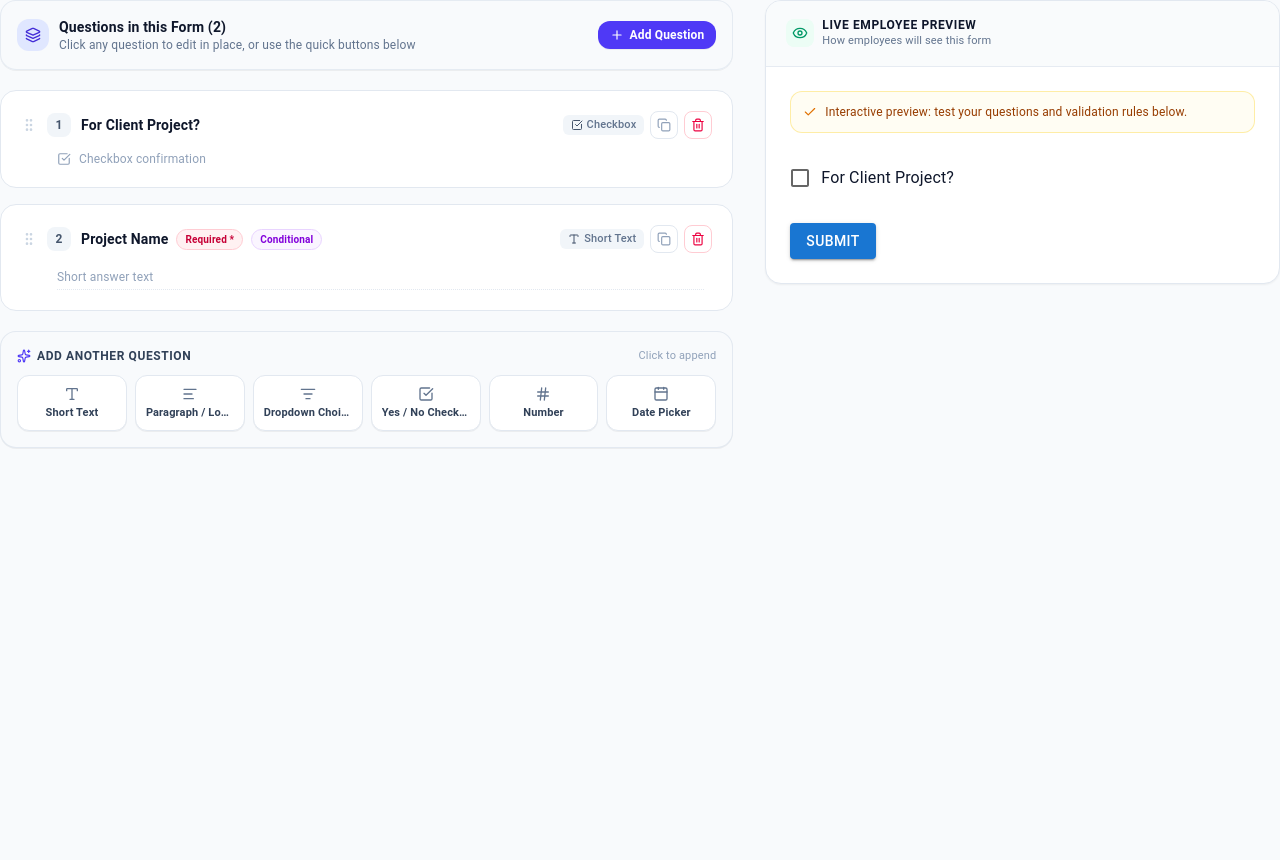
it: SchemaBuilder Component › handles conditional visibility in advanced settings with dynamic dropdowns for boolean and select dependencies
This screenshot has width=1280, height=860.
// Click on Project Name to edit it
Step 1. Click the text "Project Name" → (125, 239), box [81, 229, 168, 249]
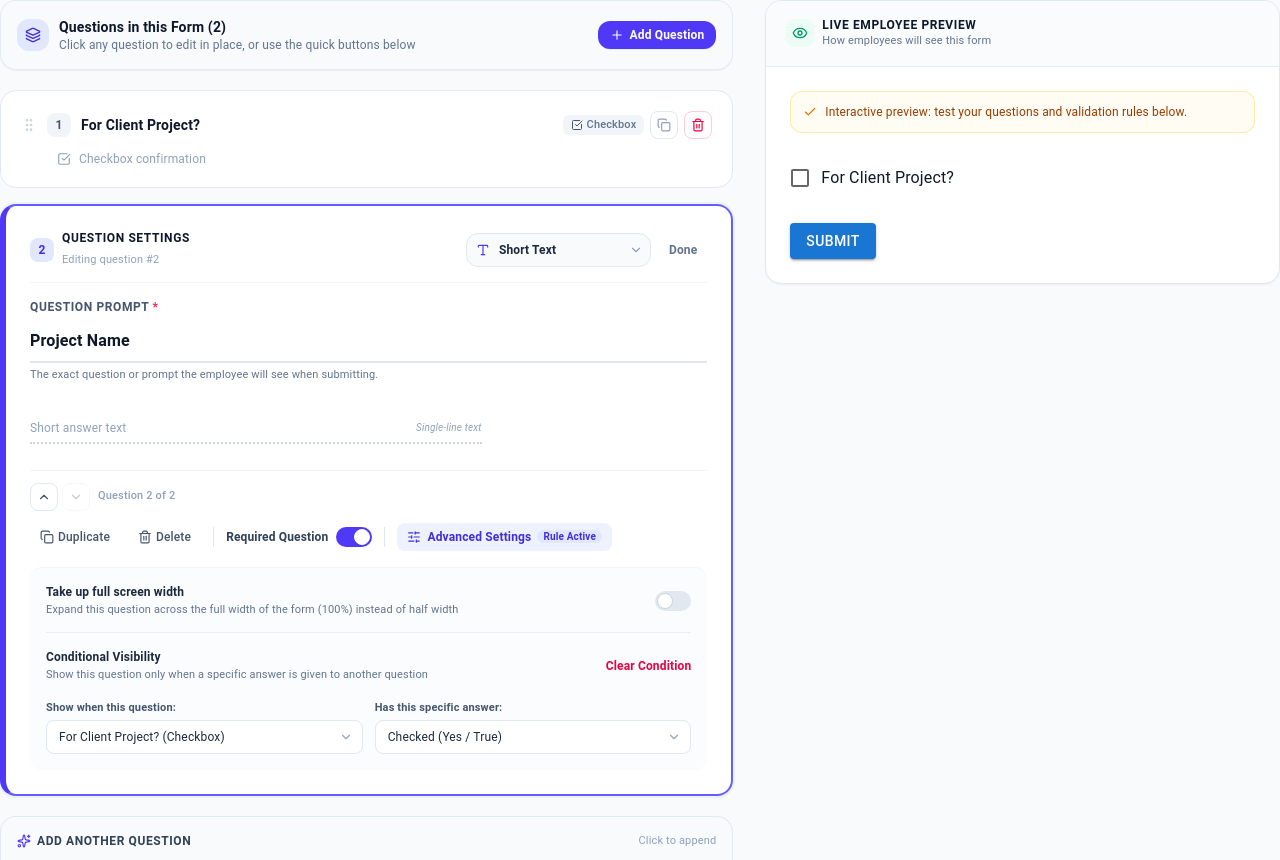
Check: the text "Advanced Settings" is shown, box [427, 528, 531, 544]
Check: the text "Rule Active" is shown, box [537, 530, 602, 543]
Check: the dropdown named "Has this specific answer" is shown, box [375, 720, 691, 754]
